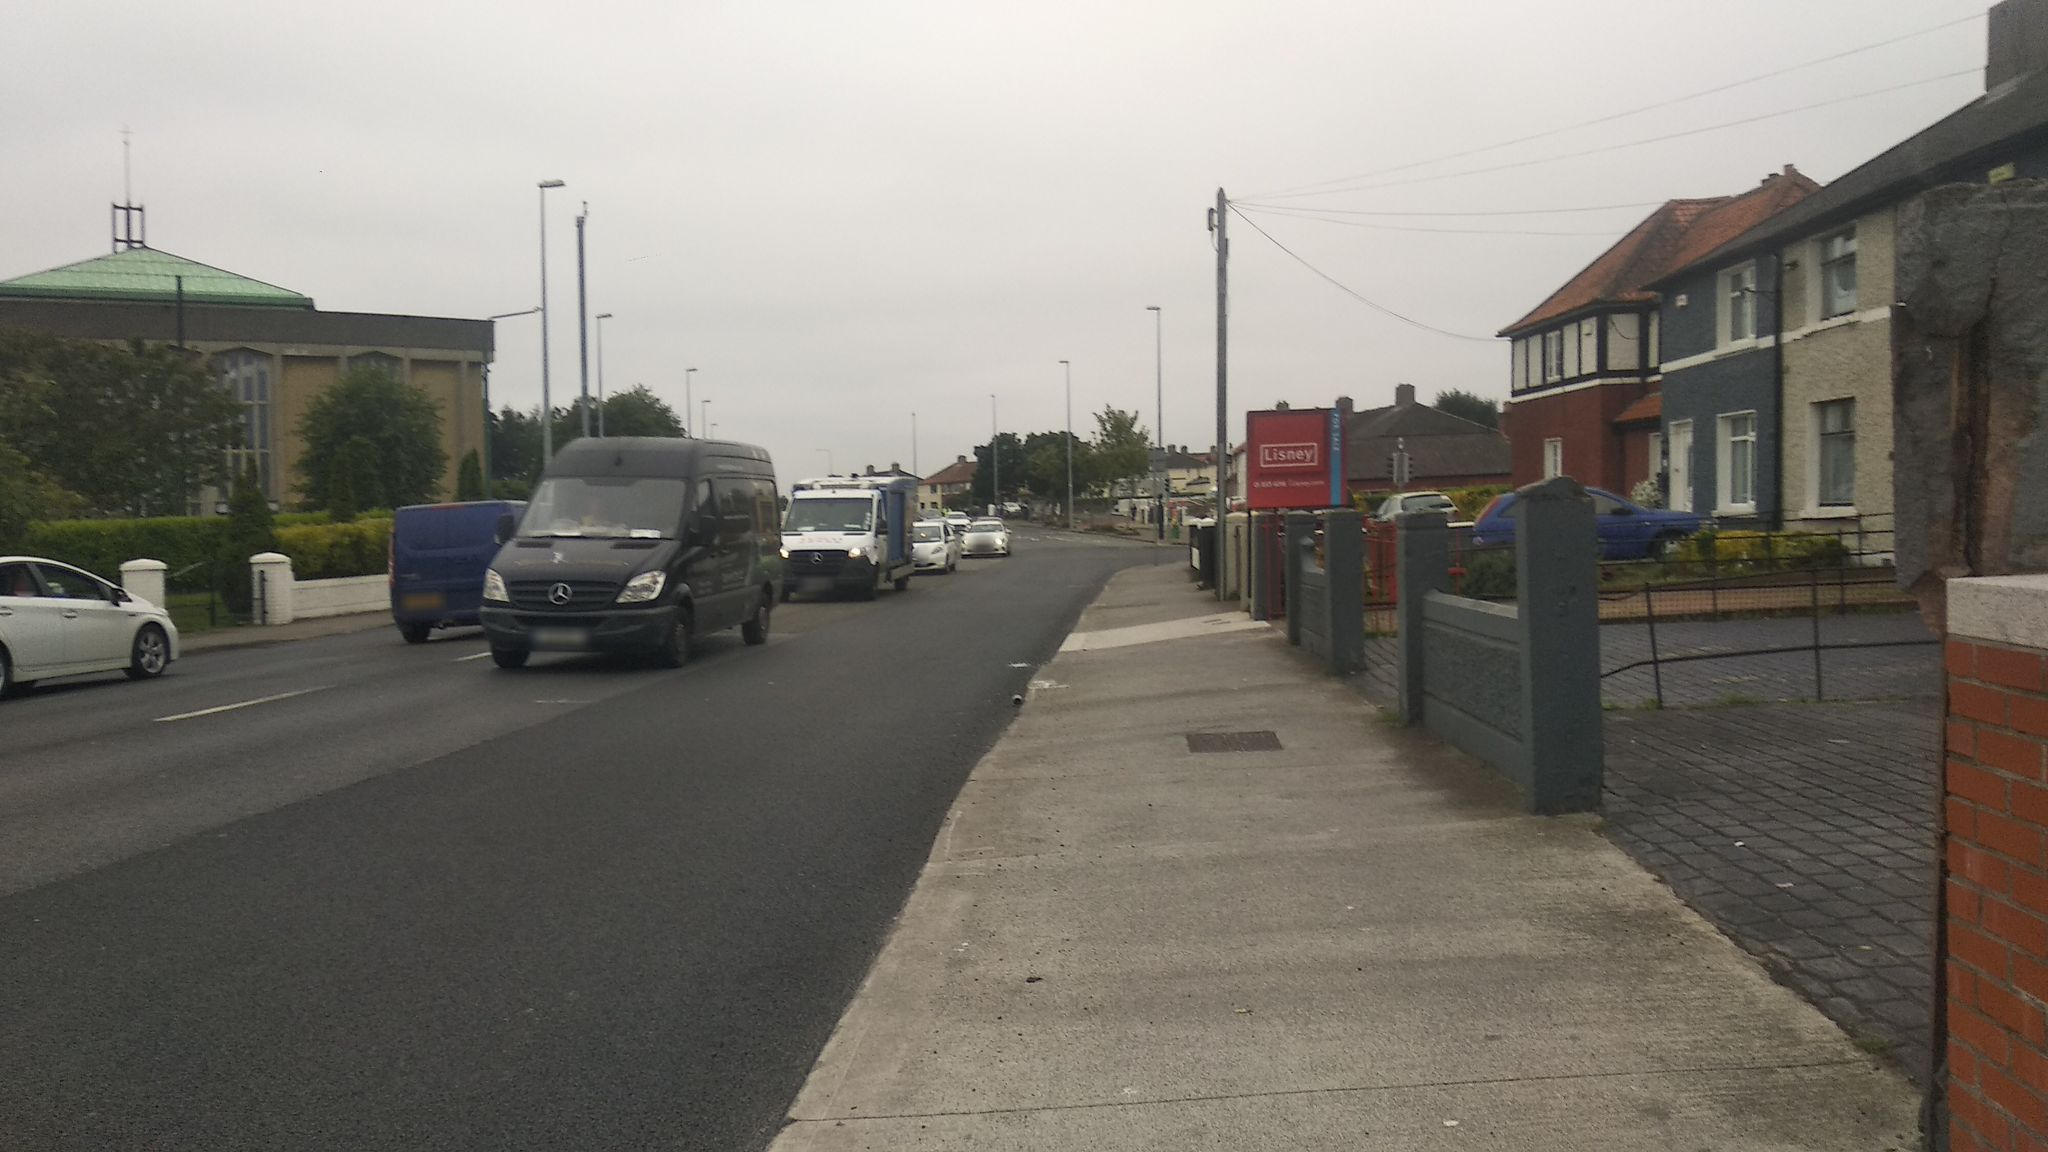property sign: (1229, 383, 1357, 518)
